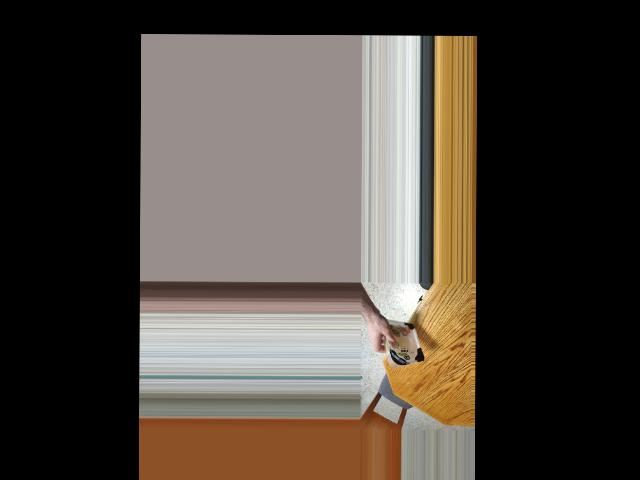cheese: (384, 317, 420, 369)
